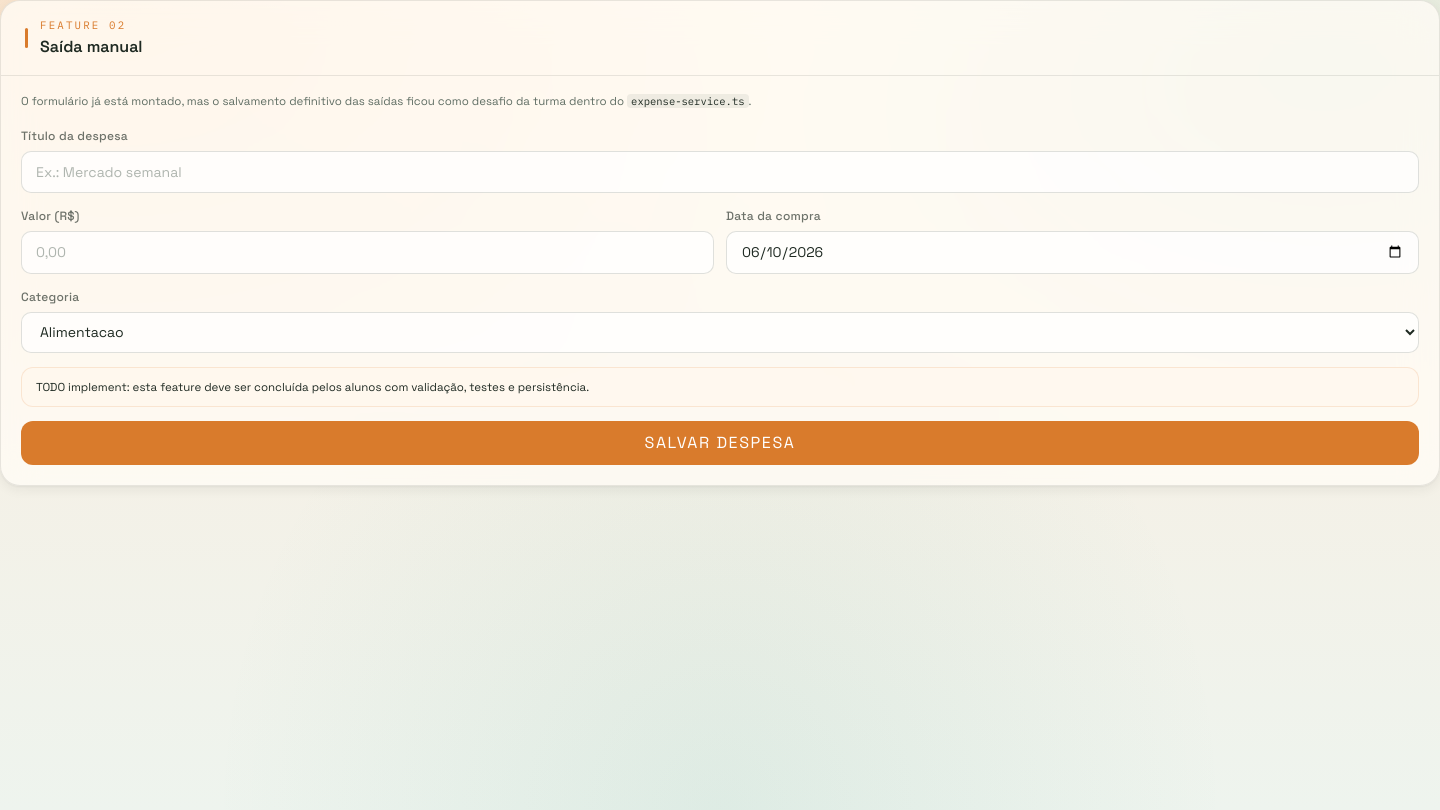
Test case: ManualExpenseForm › envia a saida manual normalizada quando a feature estiver concluida
In the field labelled "Título da despesa": {"x": 720, "y": 172} [21, 151, 1419, 193], type "Mercado semanal"
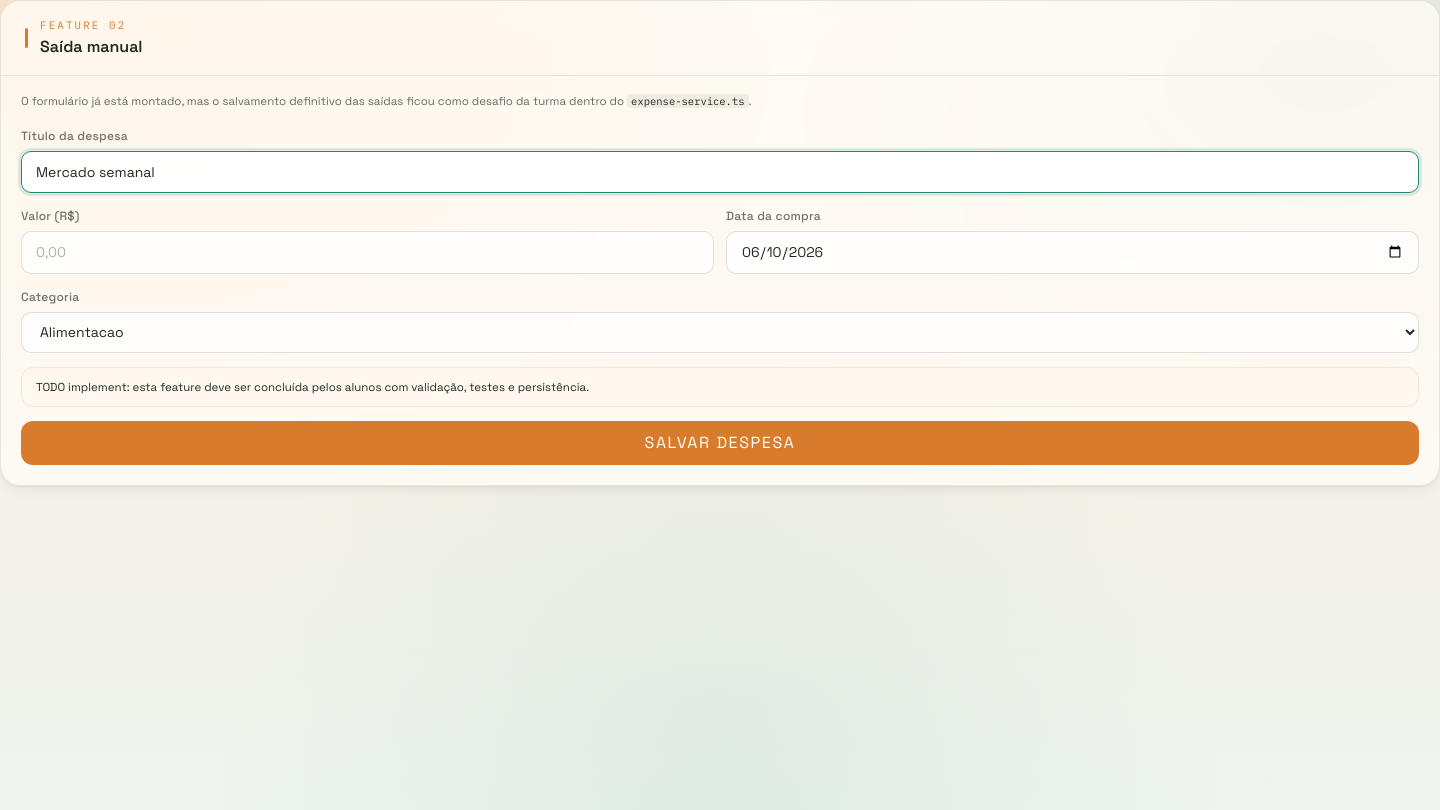
In the number field labelled "Valor (R$)": {"x": 368, "y": 252} [21, 231, 714, 274], type "123.45"
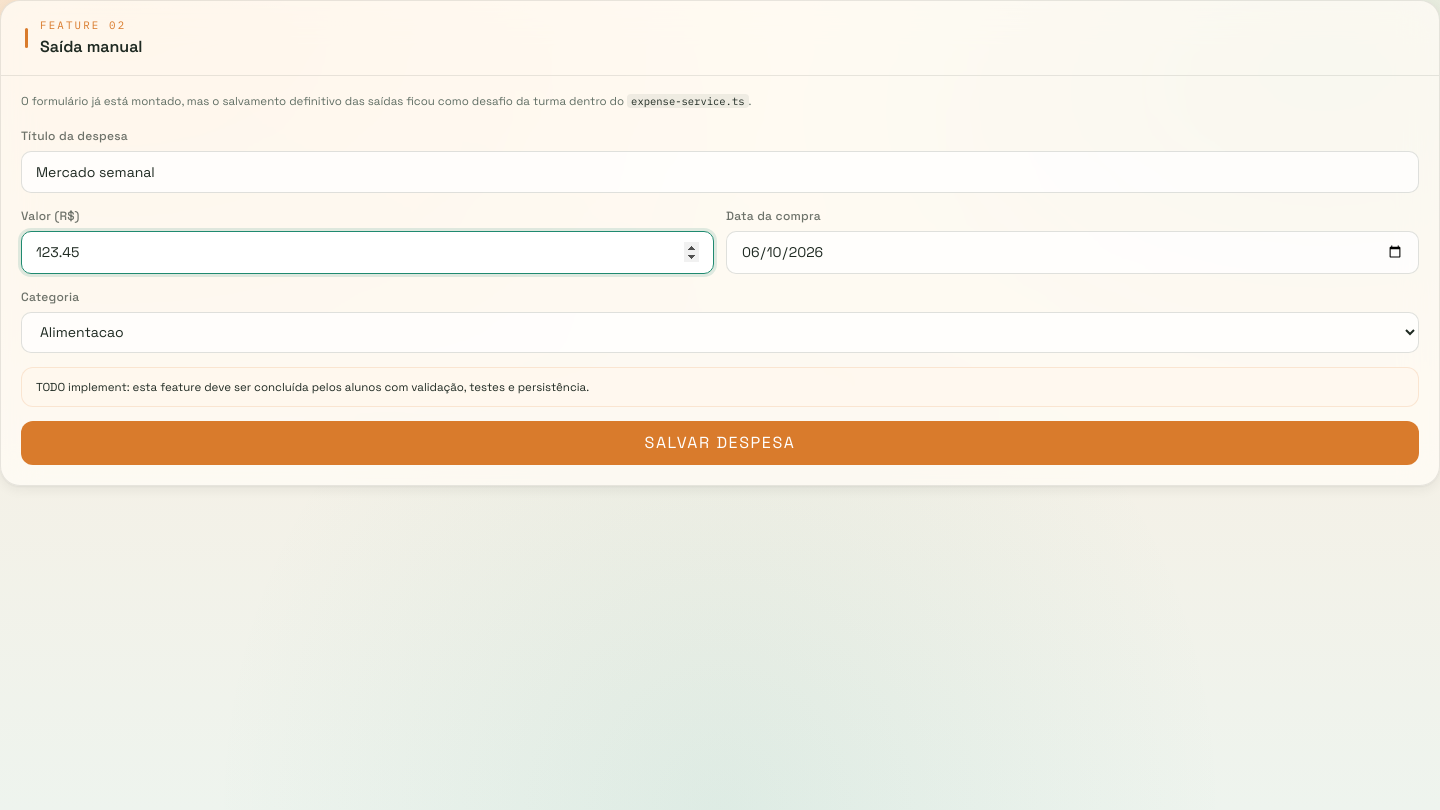
In the date field labelled "Data da compra": {"x": 1072, "y": 252} [726, 231, 1419, 274], type "2026-03-30"
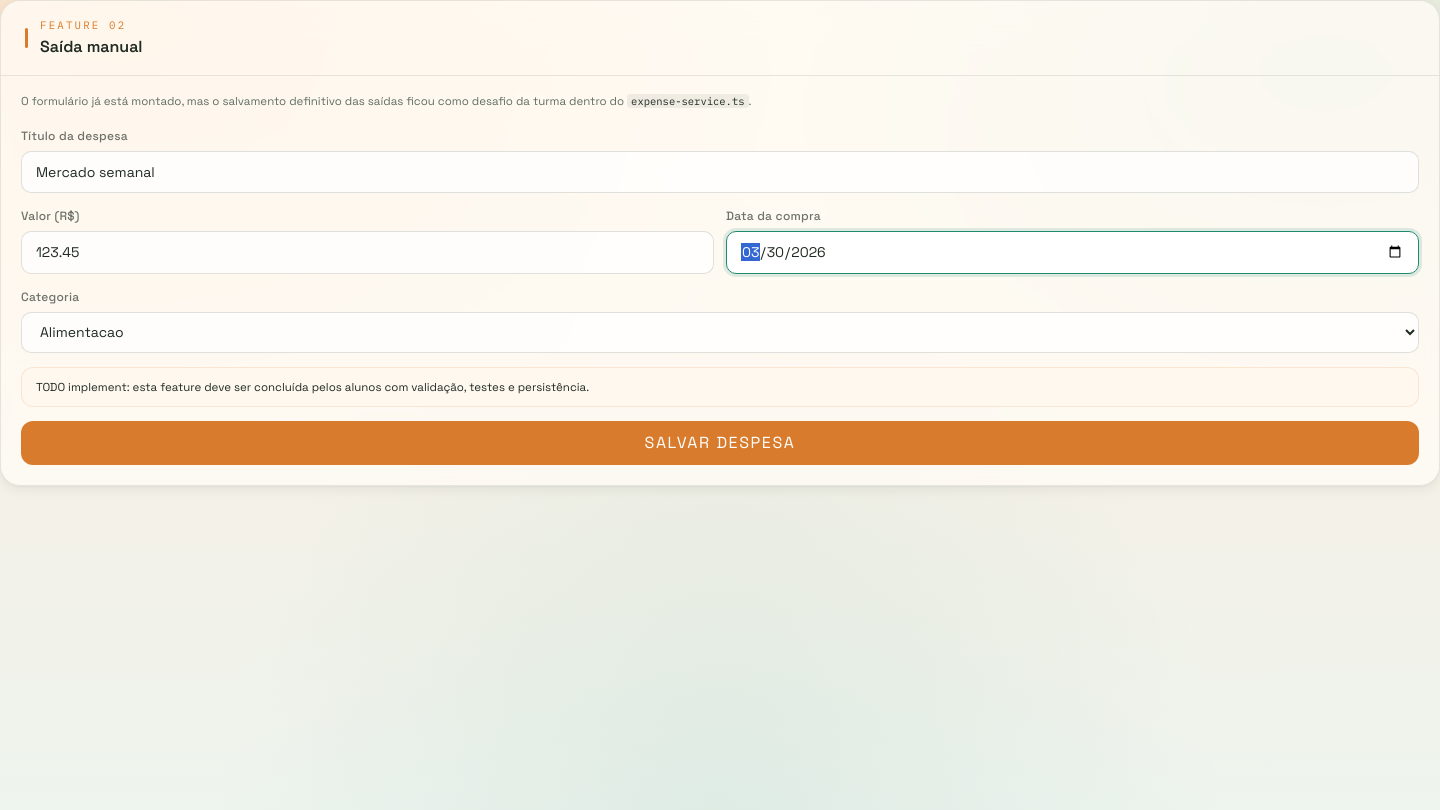
Select "Saude" in the dropdown labelled "Categoria": {"x": 720, "y": 332} [21, 312, 1419, 353]
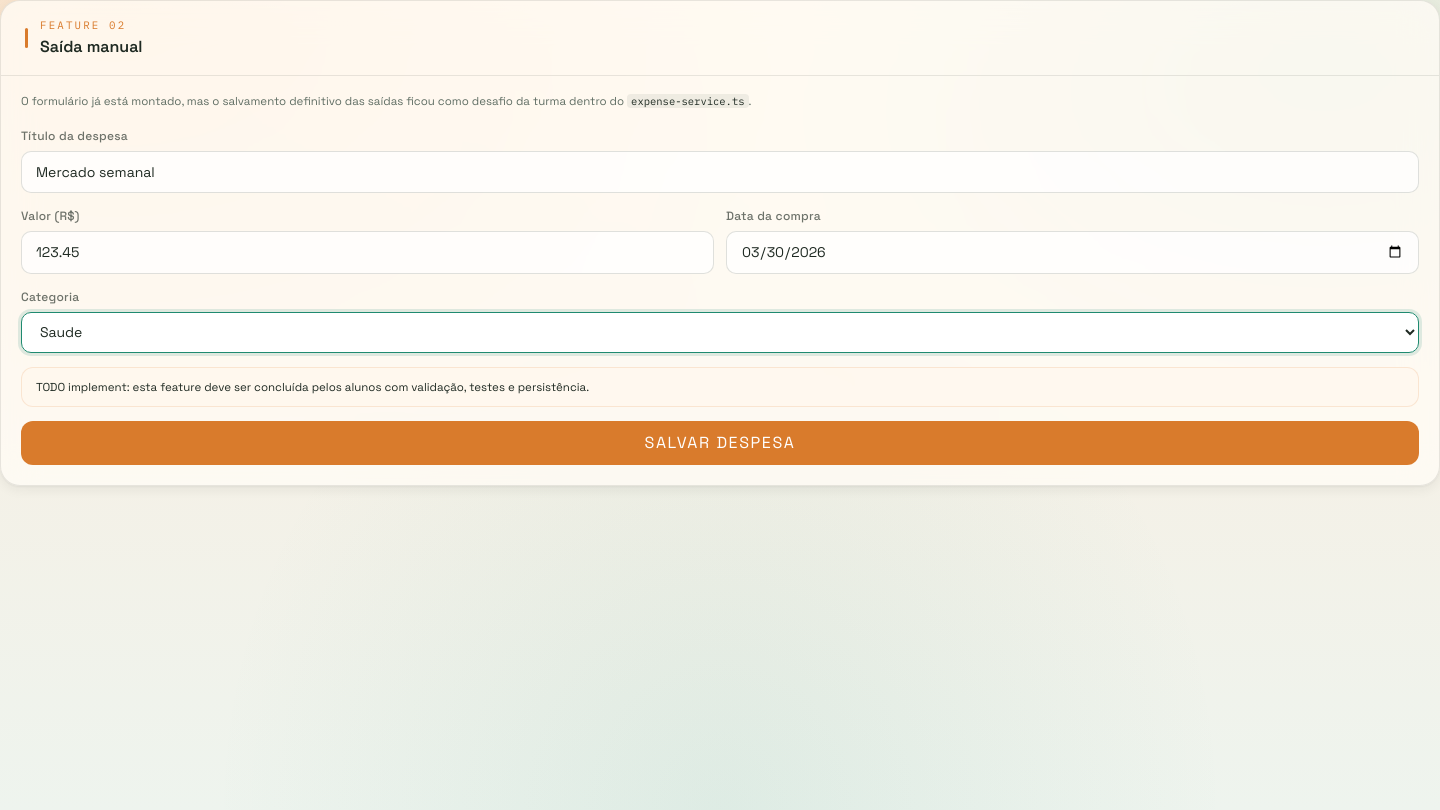
Click the button "Salvar despesa": {"x": 720, "y": 443} [21, 421, 1419, 465]
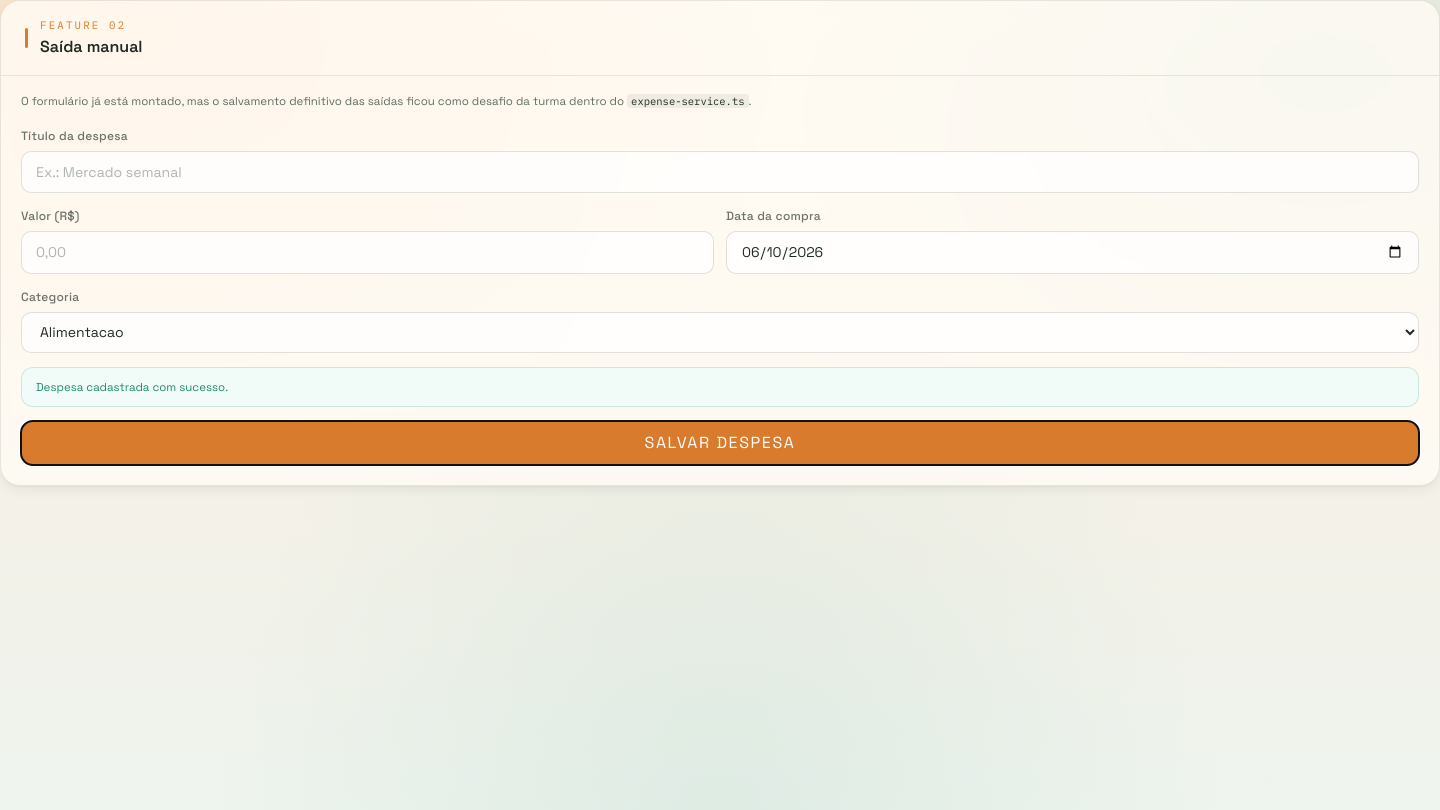
Expected: the text "Despesa cadastrada com sucesso." is shown, [21, 367, 1419, 407]
Expected: the field labelled "Título da despesa" is empty, [21, 151, 1419, 193]
Expected: the number field labelled "Valor (R$)" is not empty, [21, 231, 714, 274]
